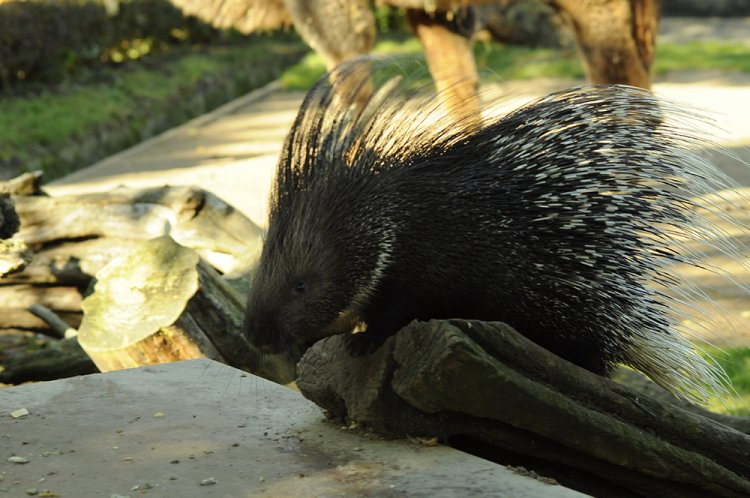porcupine: (242, 49, 739, 402)
